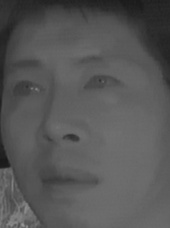eye: (83, 71, 121, 96), (8, 78, 47, 99)
mouth: (39, 161, 99, 196)
